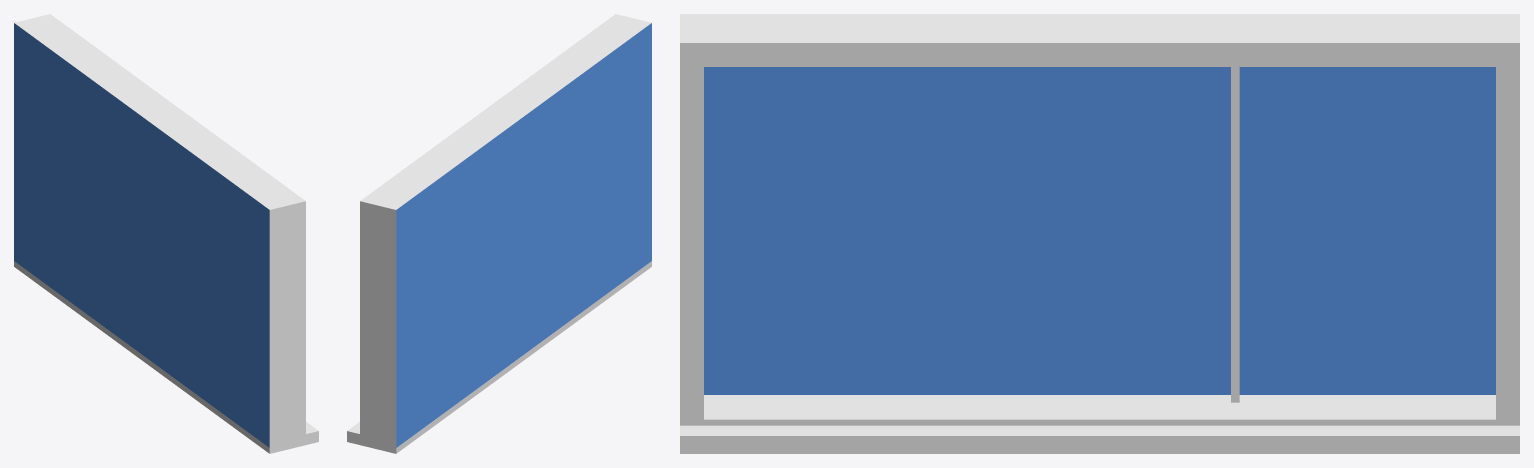
Rendered from GAMEJAMHERO - Window(Large1).fbx.
3 renders of one model, left to right at view 1: azimuth 30°, elevation 25°; view 2: azimuth 150°, elevation 25°; view 3: azimuth 270°, elevation 25°, orthographic. The views are drawn at different scales.
Visible parts, largest first — view 1: Window Large1; view 2: Window Large1; view 3: Window Large1.
Boxes of the visible parts, x1=… form: Window Large1: x1=14, y1=14, x2=318, y2=453; Window Large1: x1=347, y1=14, x2=651, y2=453; Window Large1: x1=680, y1=14, x2=1519, y2=453.
Size of the model in its own units: 32.51 by 154 by 293.
Materials: 1 (1 with a texture image).
